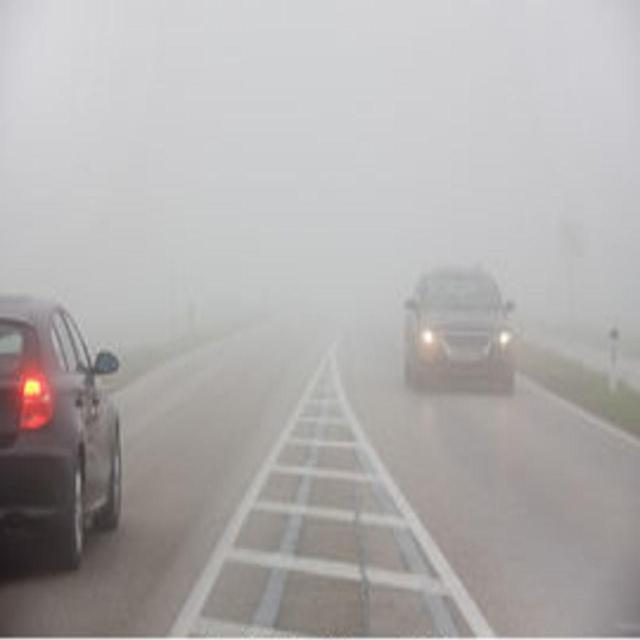Car: (0, 282, 131, 571), (390, 245, 522, 396)
